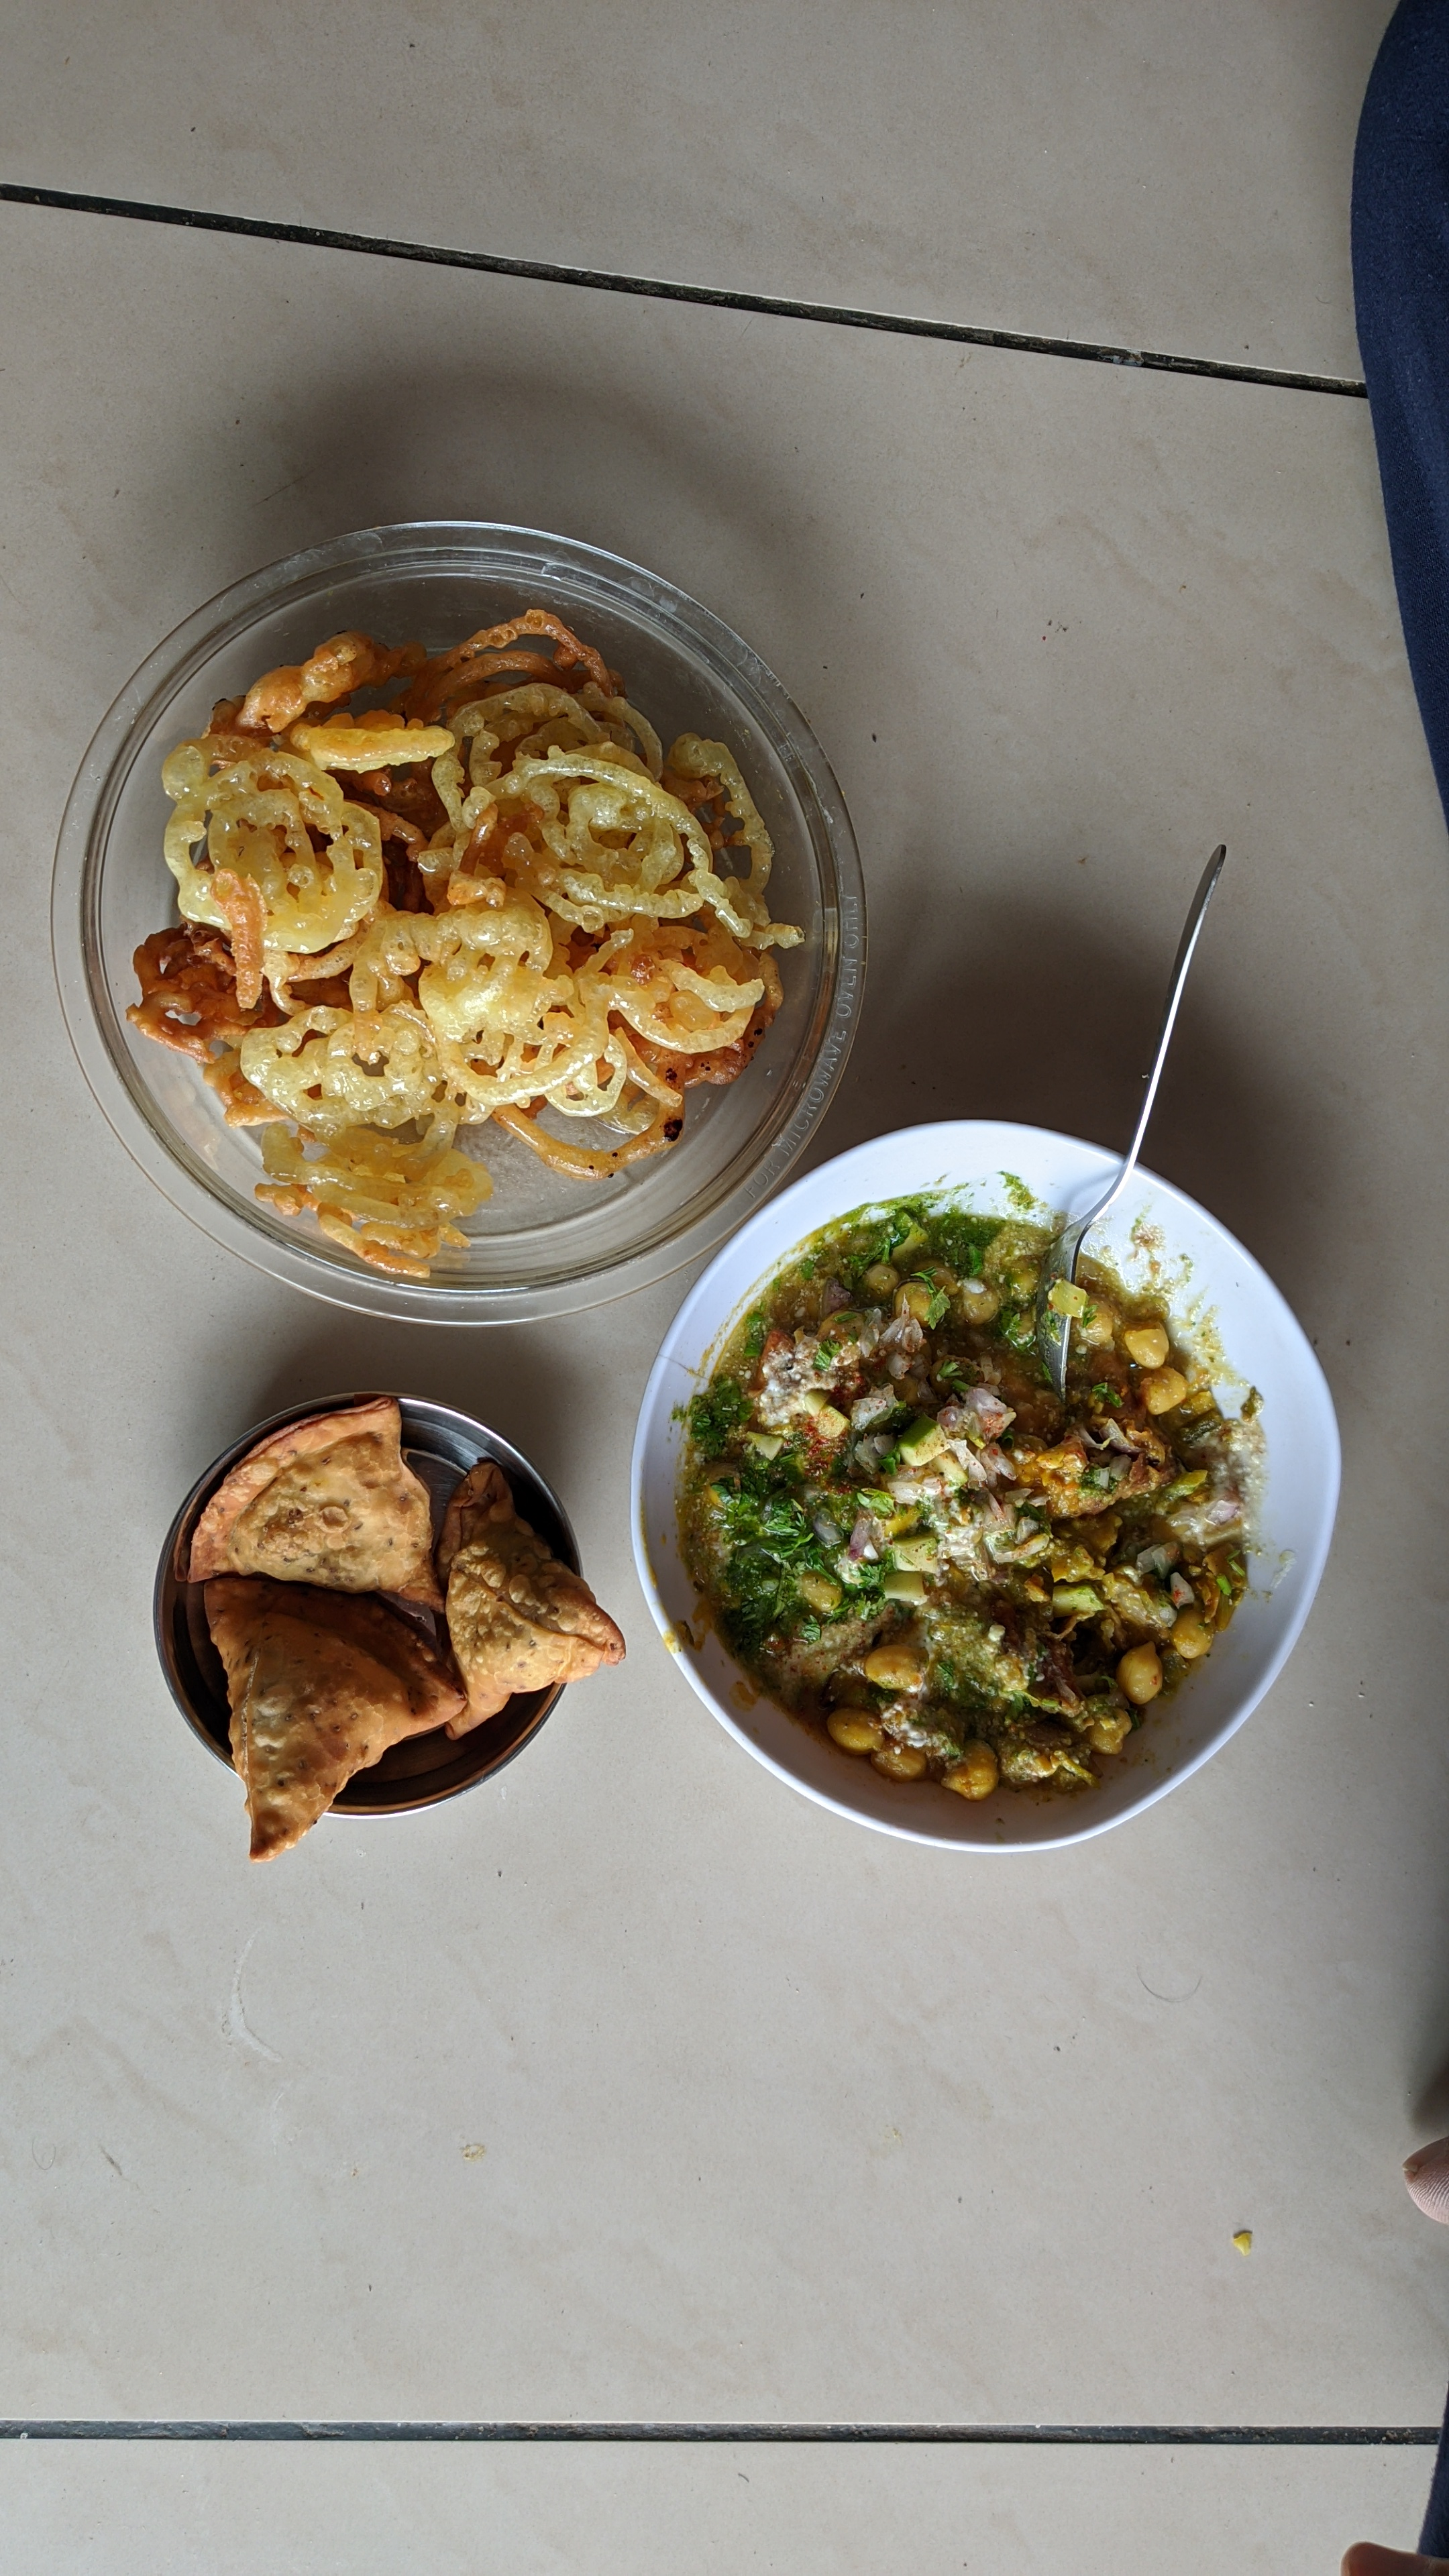food: (115, 598, 803, 1290), (672, 1192, 1260, 1815), (172, 1385, 637, 1874)
